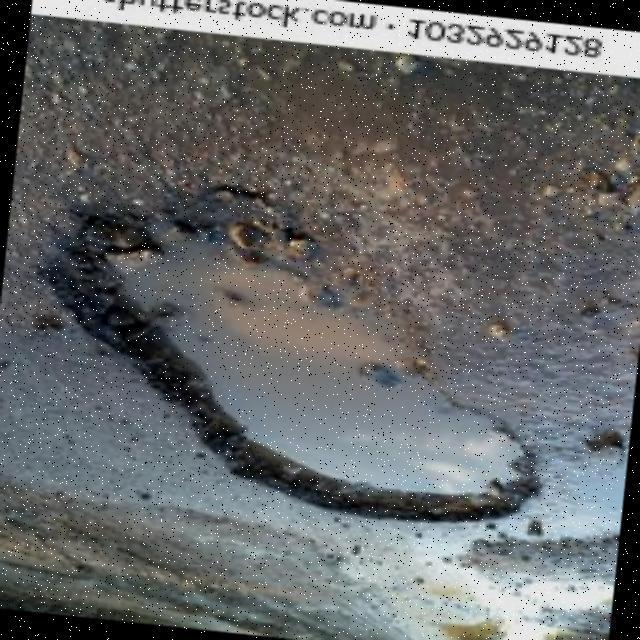Pothole: (42, 211, 535, 521)
